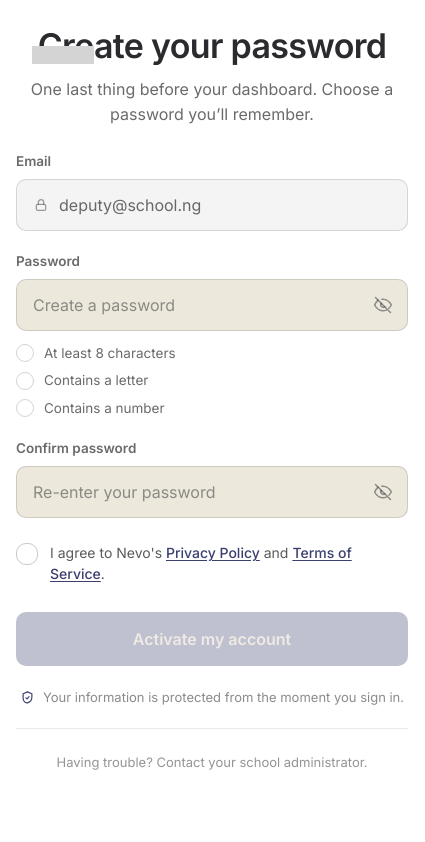
an invited admin › is taken to the admin console and told it is an admin account
Type "lessons42" into the password field labelled "Password" at (199, 305), box [33,280,365,330]
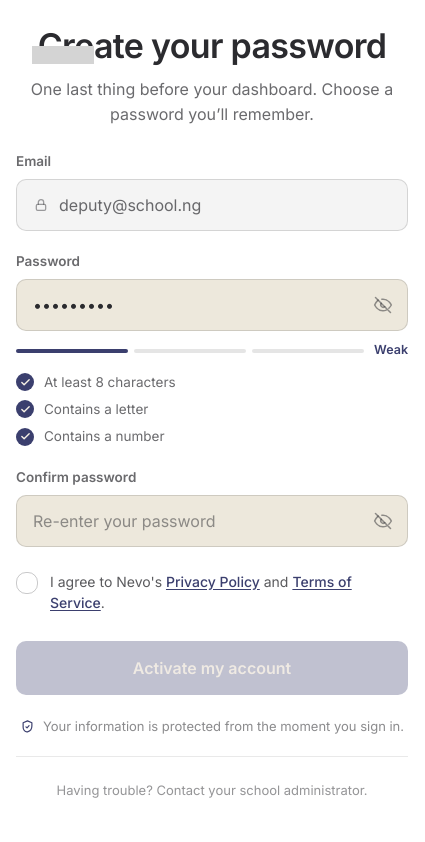
Type "lessons42" into the password field labelled "Confirm password" at (199, 521), box [33,496,365,546]
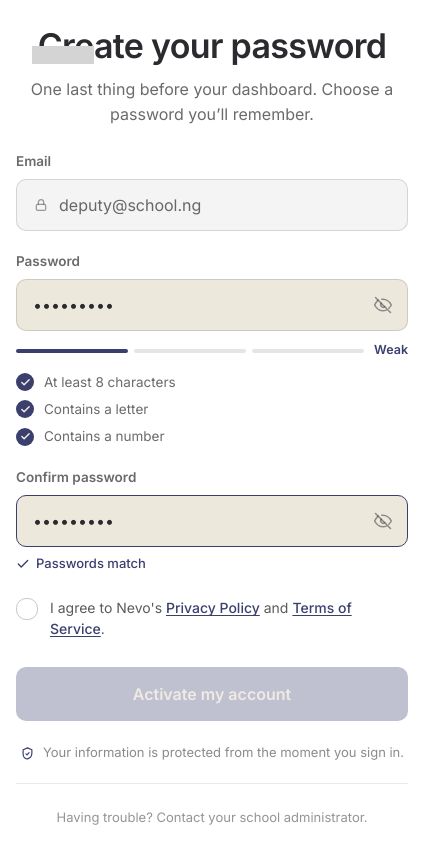
Click the checkbox at (212, 618), box [16,597,408,639]
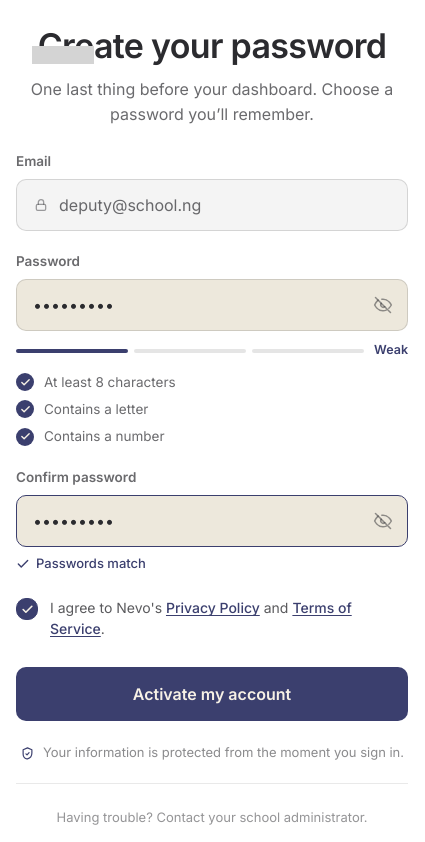
Click the button "Activate my account" at (212, 694), box [16,667,408,721]
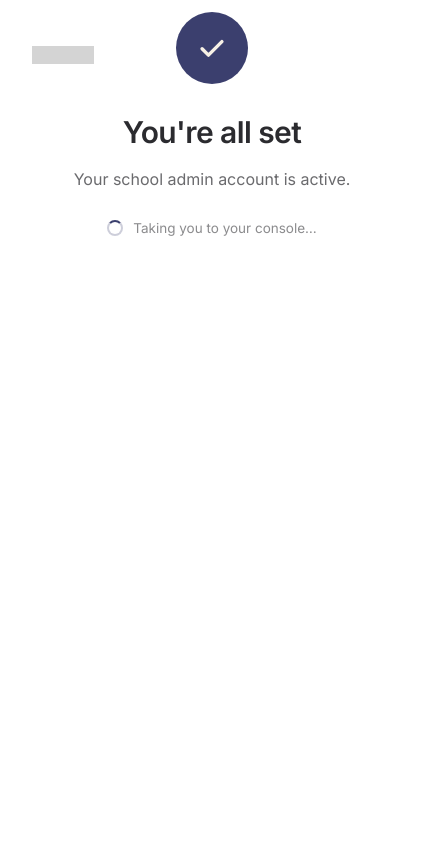
Expected: the text "Your school admin account is active." is shown, [74,167,350,192]
